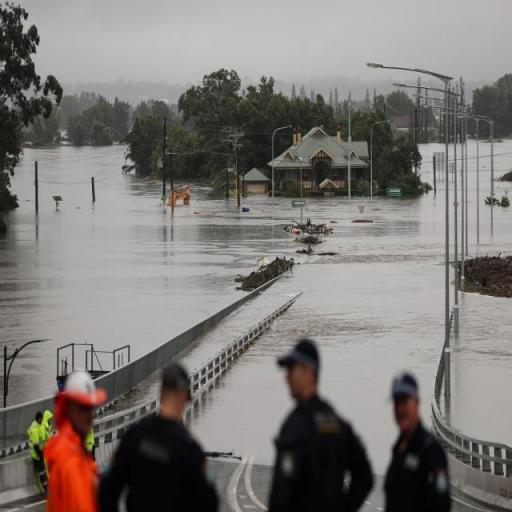flood: (0, 146, 446, 475), (451, 294, 512, 444), (469, 140, 512, 256), (419, 144, 444, 184), (496, 139, 512, 177), (498, 181, 512, 198)
house: (270, 130, 348, 196)
